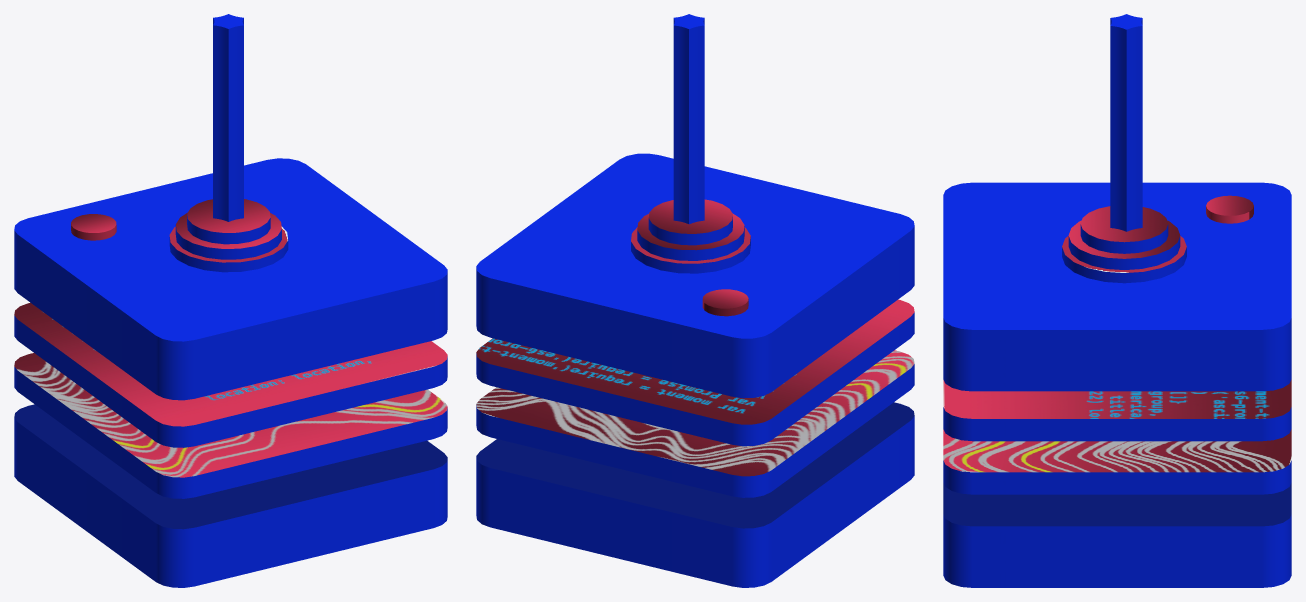
Rendered from ICT-Joy-Stick-004.obj.
3 views of the same model, side by side, from view 1: azimuth 30°, elevation 25°; view 2: azimuth 150°, elevation 25°; view 3: azimuth 270°, elevation 25° (orthographic). The views are drawn at different scales.
Parts seen in each view (by area): view 1: stick pCube4, stick pCube5, stick pCube6, stick pCube7, stick pCylinder5, stick pCylinder4, stick pCylinder3, stick pCylinder2, pCylinder1 stick; view 2: stick pCube4, stick pCube5, stick pCube6, stick pCube7, stick pCylinder5, stick pCylinder4, stick pCylinder3, stick pCylinder2, pCylinder1 stick; view 3: stick pCube4, stick pCube5, stick pCube6, stick pCube7, stick pCylinder5, stick pCylinder4, stick pCylinder3, stick pCylinder2, pCylinder1 stick.
Part boxes in pixels (x1,y1,x2,y2): stick pCube4: (14,158,447,400); stick pCube5: (14,404,447,587); stick pCube6: (14,353,447,498); stick pCube7: (14,302,447,447); stick pCylinder5: (213,14,243,221); stick pCylinder4: (187,199,270,244); stick pCylinder3: (175,212,281,259); stick pCylinder2: (169,226,288,272); pCylinder1 stick: (71,214,116,240); stick pCube4: (476,153,914,398); stick pCube5: (476,402,914,587); stick pCube6: (476,350,914,497); stick pCube7: (476,299,914,446); stick pCylinder5: (673,14,704,224); stick pCylinder4: (648,199,732,245); stick pCylinder3: (637,213,744,260); stick pCylinder2: (631,227,750,273); pCylinder1 stick: (702,289,748,316); stick pCube4: (943,182,1291,391); stick pCube5: (943,483,1291,587); stick pCube6: (943,429,1291,494); stick pCube7: (943,380,1291,441); stick pCylinder5: (1110,14,1142,231); stick pCylinder4: (1080,206,1168,253); stick pCylinder3: (1068,220,1180,269); stick pCylinder2: (1062,236,1186,283); pCylinder1 stick: (1206,195,1253,223).
Bounding box in the file's own units: 0.3175 × 0.496 × 0.3175.
